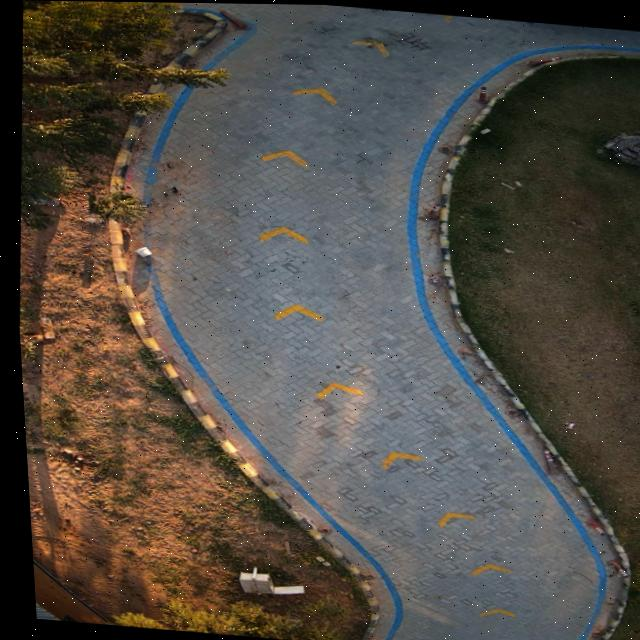No Car: (14, 0, 640, 640)
